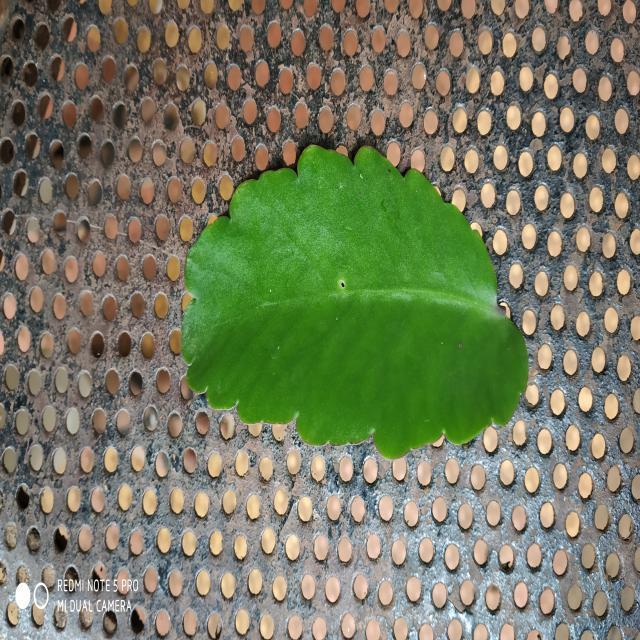spinach: (181, 147, 528, 460)
